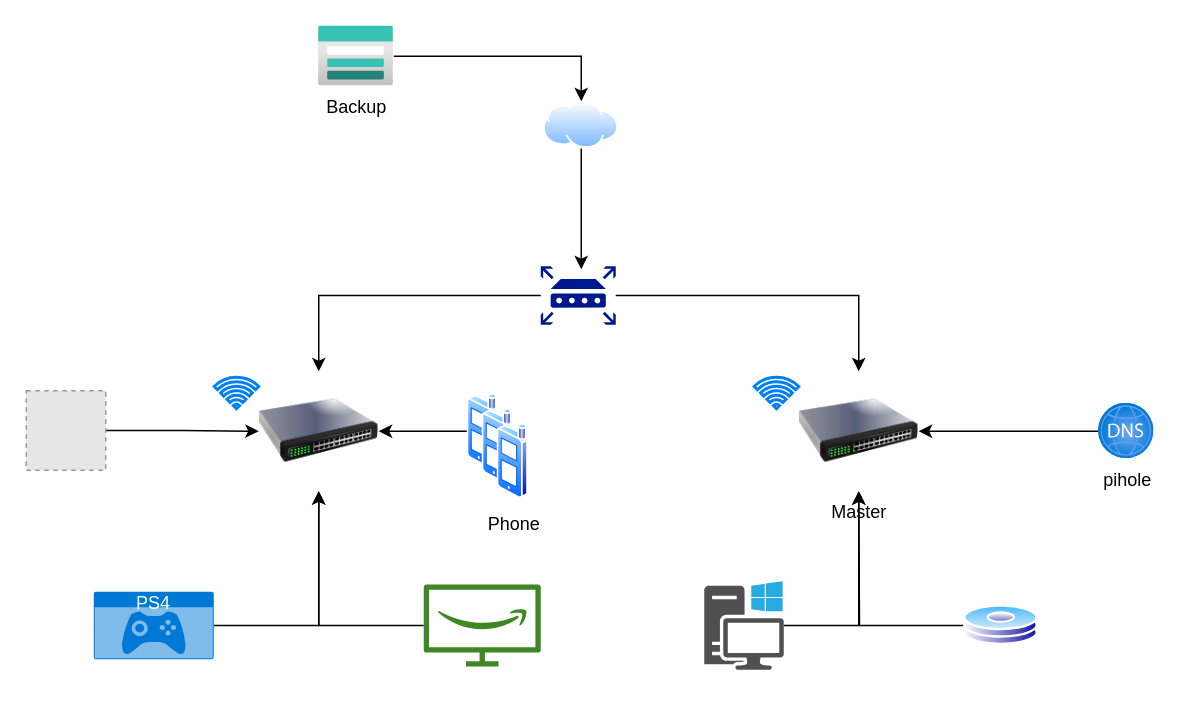
Image size: 1181x707. Some labels were removed from this diagram. Grey dashed boxes stand in for pictures. Here are the shapes that lost their labels. From the top down, the box of each, then its label:
(258, 370, 378, 490): Living
(963, 604, 1038, 645): NAS
